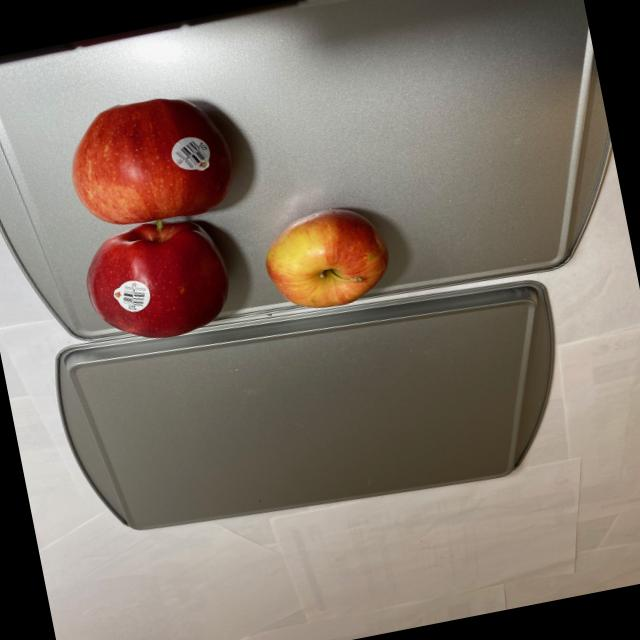apple: (53, 59, 401, 352)
